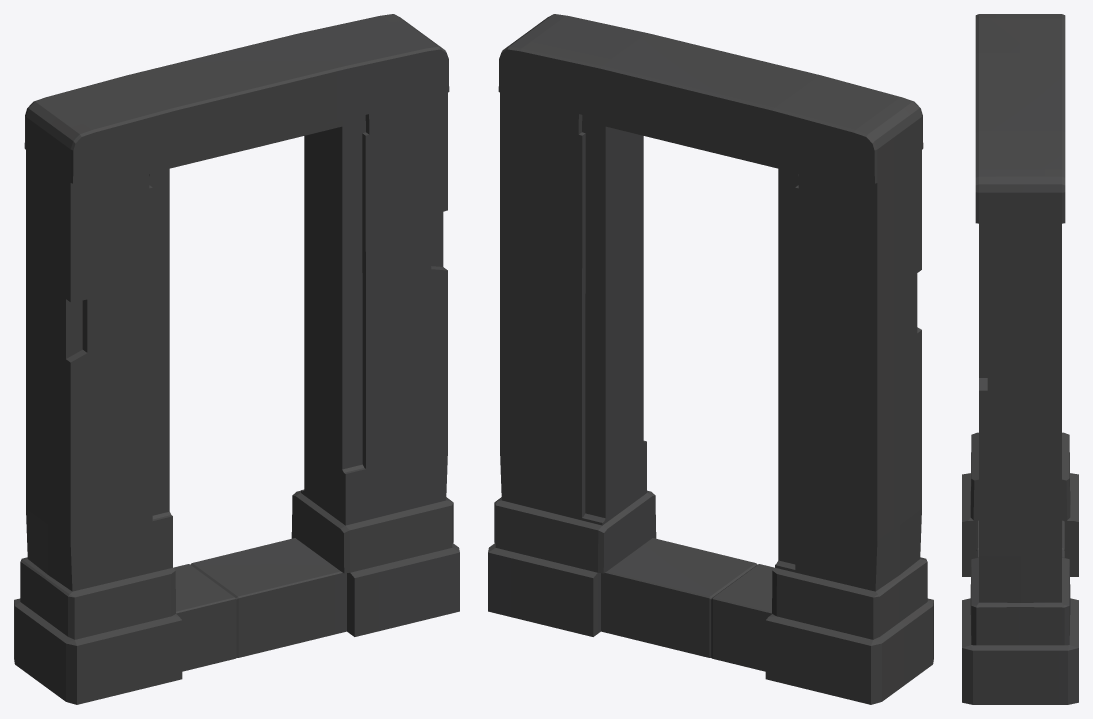
File: Gate.fbx
3 views of the same model, side by side, from view 1: azimuth 30°, elevation 25°; view 2: azimuth 150°, elevation 25°; view 3: azimuth 270°, elevation 25° (orthographic). The views are drawn at different scales.
Parts seen in each view (by area): view 1: Gate; view 2: Gate; view 3: Gate.
Part boxes in pixels (<box>): Gate: <box>14,14,459,704</box>; Gate: <box>488,14,933,704</box>; Gate: <box>962,14,1078,704</box>.
Size of the model in its own units: 198 by 272 by 54.91.
